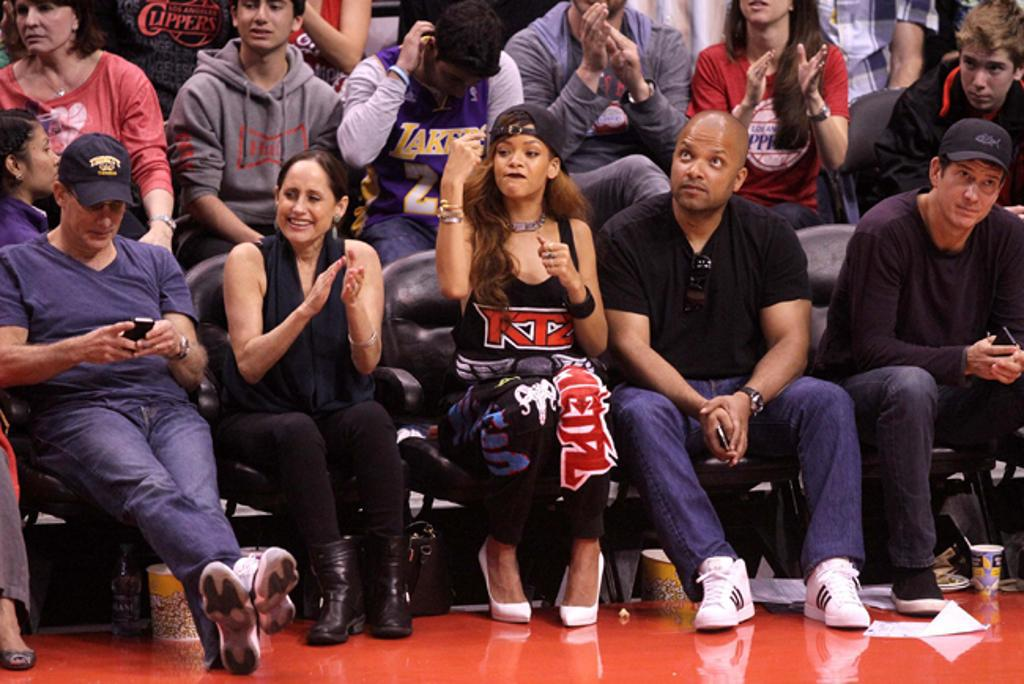face: (672, 121, 738, 210), (941, 152, 1002, 228), (278, 161, 334, 242), (493, 120, 548, 197), (962, 35, 1014, 110), (68, 185, 126, 247), (18, 1, 76, 54), (237, 1, 293, 49), (19, 126, 59, 191), (433, 51, 481, 96)
